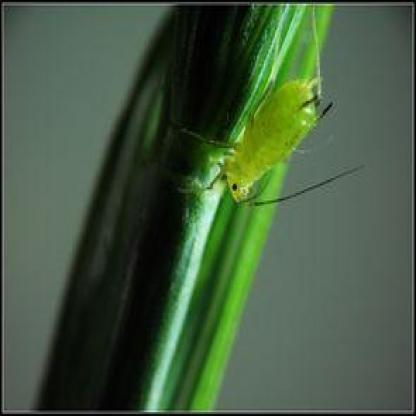aphid: (190, 53, 338, 223)
